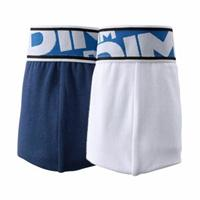mutande: (85, 24, 181, 175), (17, 25, 98, 171)
